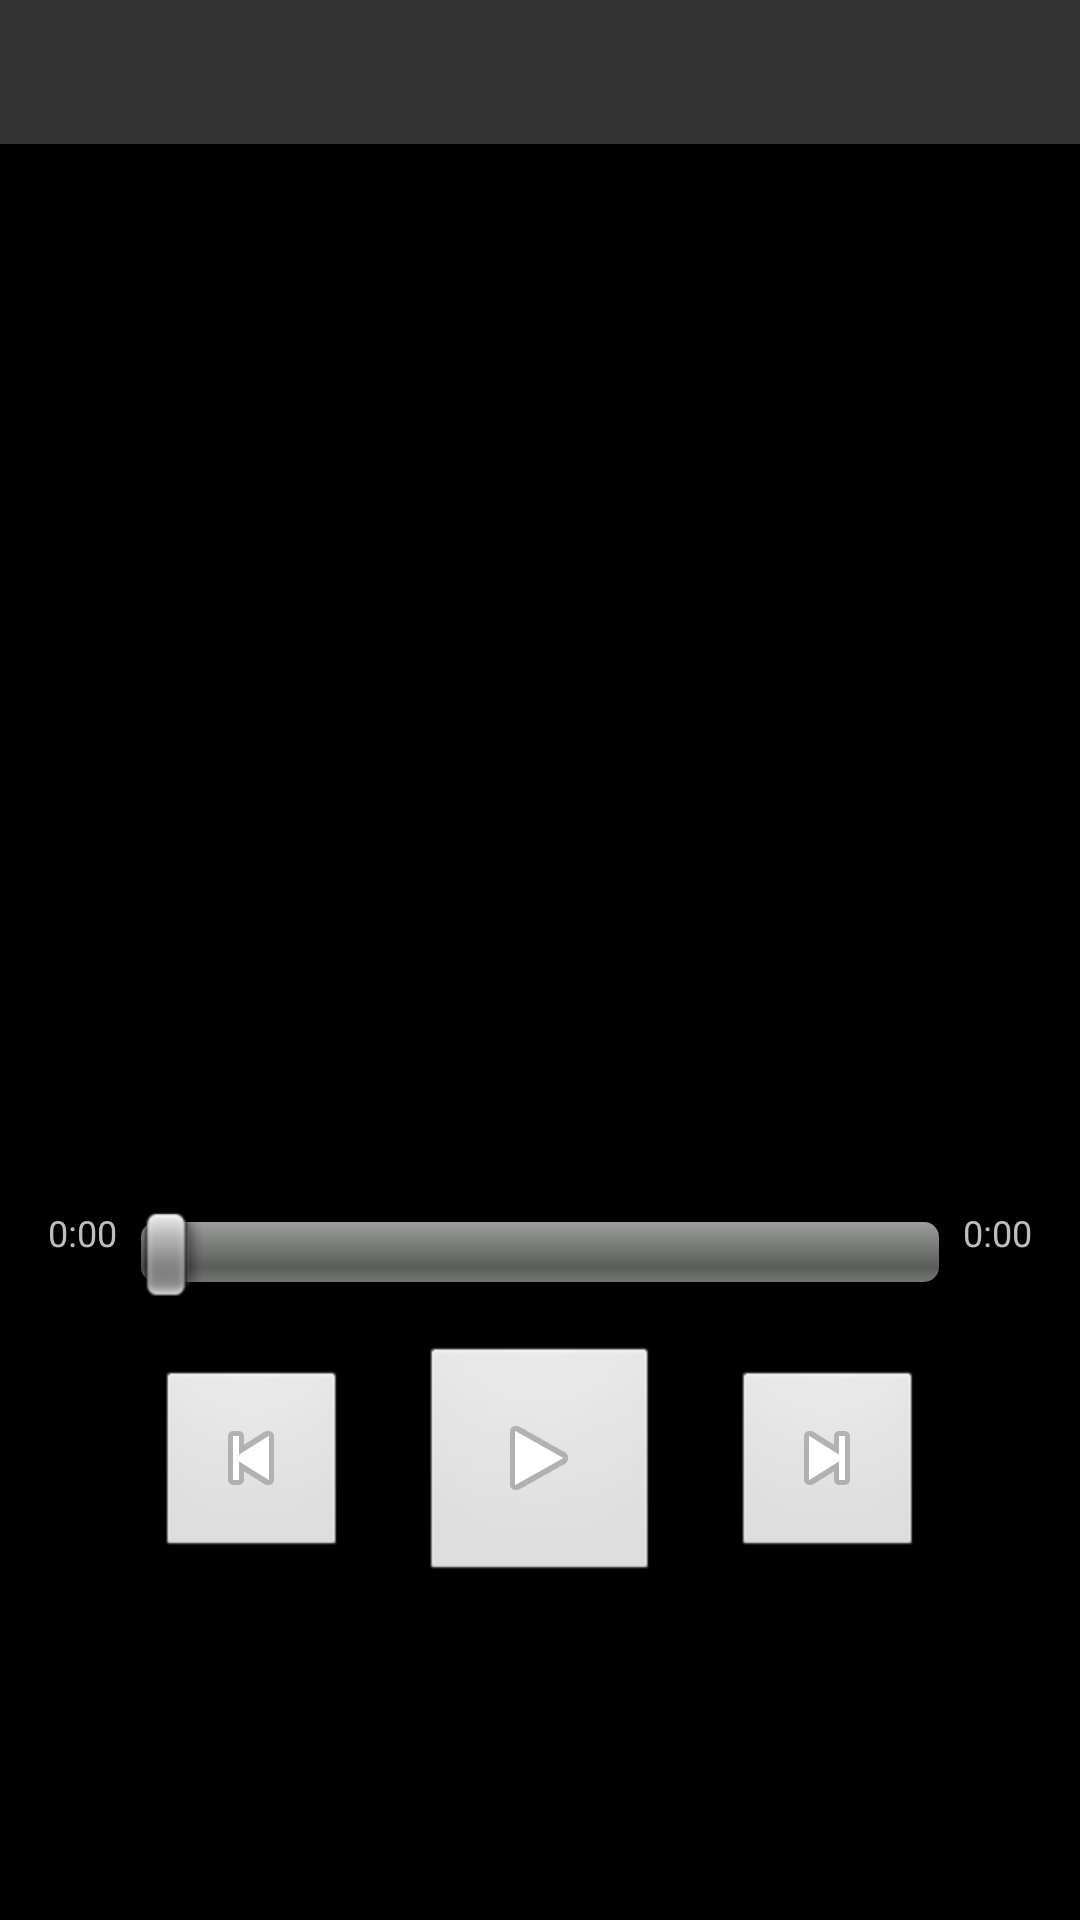

Locate icon controls on the screen. Image size 1080px x 1920px, boxes as (x1=x1, y1=y1, x2=x2, y2=y2).
next: (x1=742, y1=1372, x2=912, y2=1545)
play: (x1=430, y1=1348, x2=648, y2=1569)
previous: (x1=166, y1=1372, x2=336, y2=1545)
